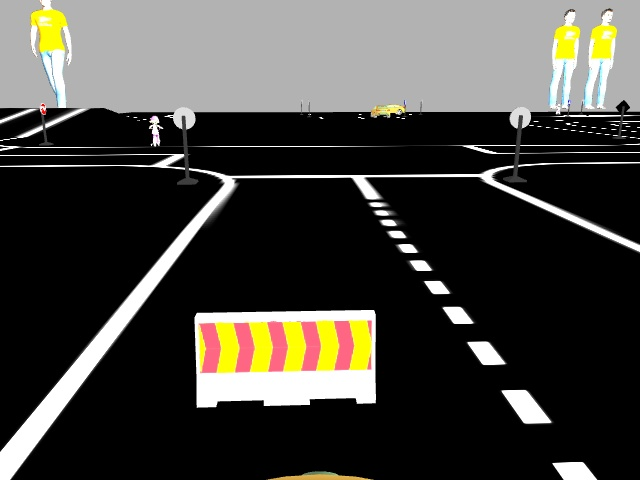ClosedRoadStand: (195, 314, 375, 403)
